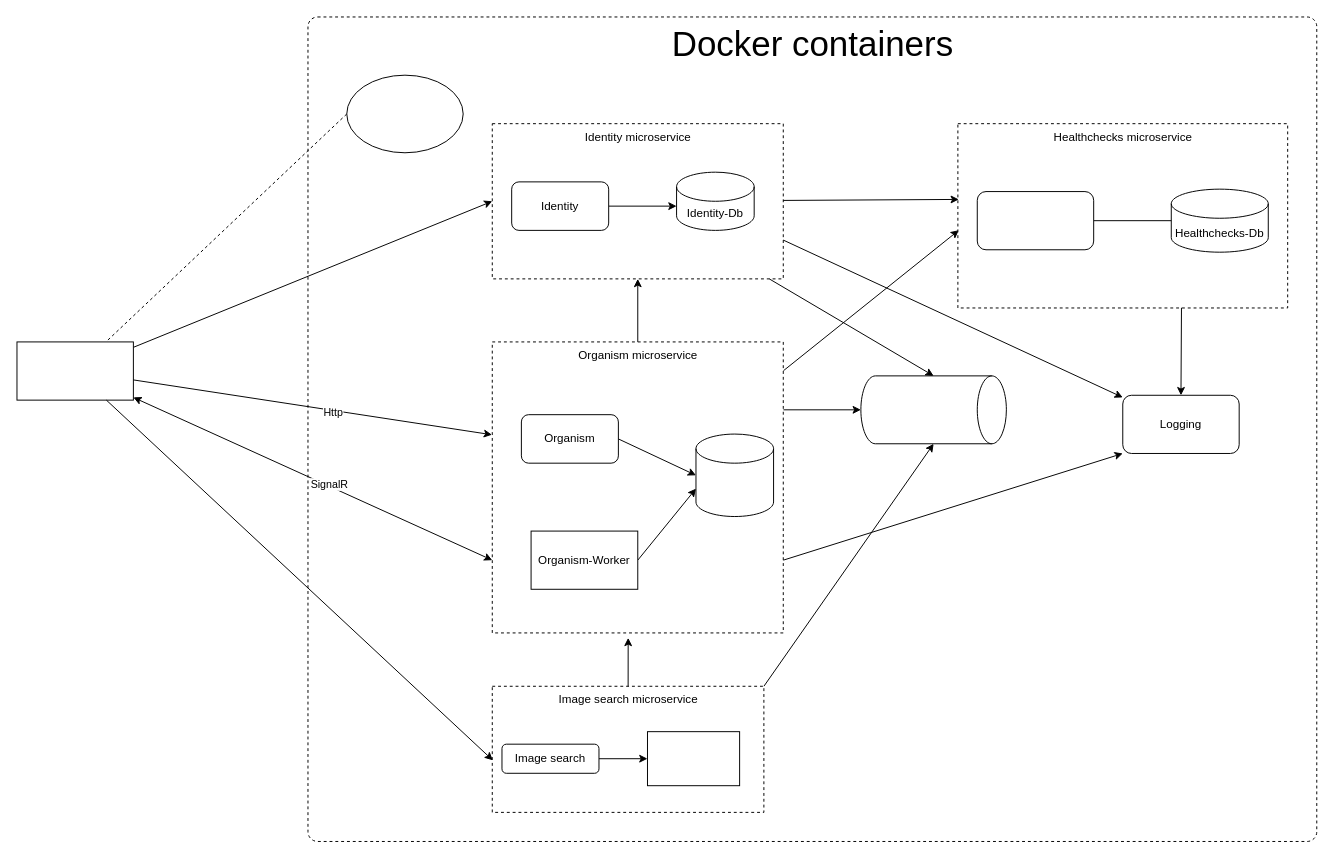
This 1334x858 diagram has some shape labels left out. Here are the shapes that lost their labels. From the top down, the centre of each, then its label:
At (404,113): "Species-Wiki".
At (1035,220): "Healthchecks".
At (74,370): "Client Browser".
At (933,409): "Message-Queue".
At (734,475): "Organism-Db".
At (693,758): "Files".
